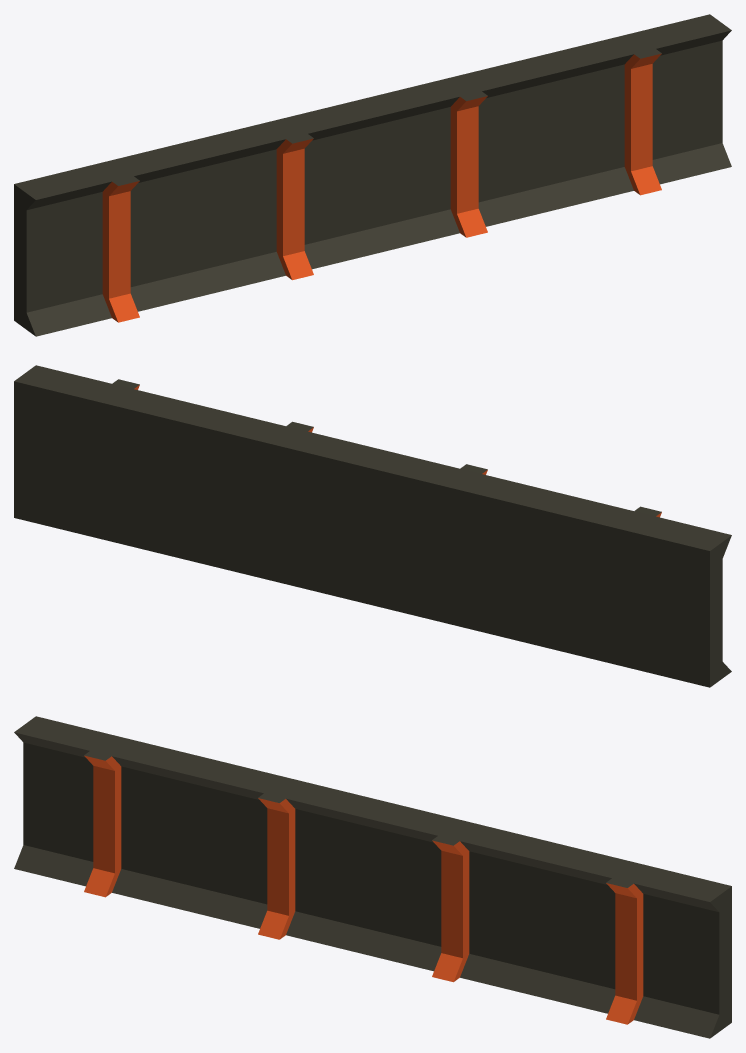
The model's file is WallLong.fbx.
3 views of the same model, one above another, from view 1: azimuth 30°, elevation 25°; view 2: azimuth 150°, elevation 25°; view 3: azimuth 330°, elevation 25° (orthographic).
Visible parts, largest first — view 1: WallLong; view 2: WallLong; view 3: WallLong.
Part boxes in pixels (x1,y1,x2,y2): WallLong: (14,14,731,336); WallLong: (14,365,731,687); WallLong: (14,716,731,1038).
Size of the model in its own units: 1600 by 300 by 113.
